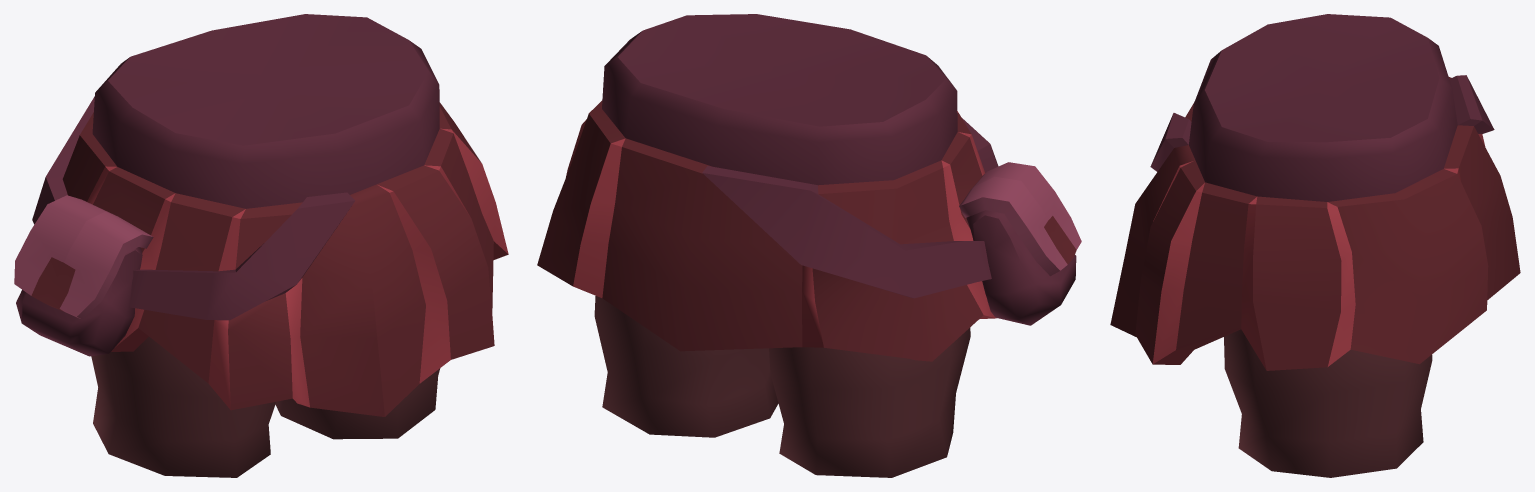
File: Bottom_35.fbx
3 views of the same model, side by side, from view 1: azimuth 30°, elevation 25°; view 2: azimuth 150°, elevation 25°; view 3: azimuth 270°, elevation 25° (orthographic). The views are drawn at different scales.
Parts seen in each view (by area): view 1: Bottom_35; view 2: Bottom_35; view 3: Bottom_35.
Boxes of the visible parts, x1=… form: Bottom_35: x1=14, y1=14, x2=508, y2=477; Bottom_35: x1=537, y1=14, x2=1081, y2=477; Bottom_35: x1=1110, y1=14, x2=1520, y2=477.
Size of the model in its own units: 60.12 by 42.75 by 46.48.
